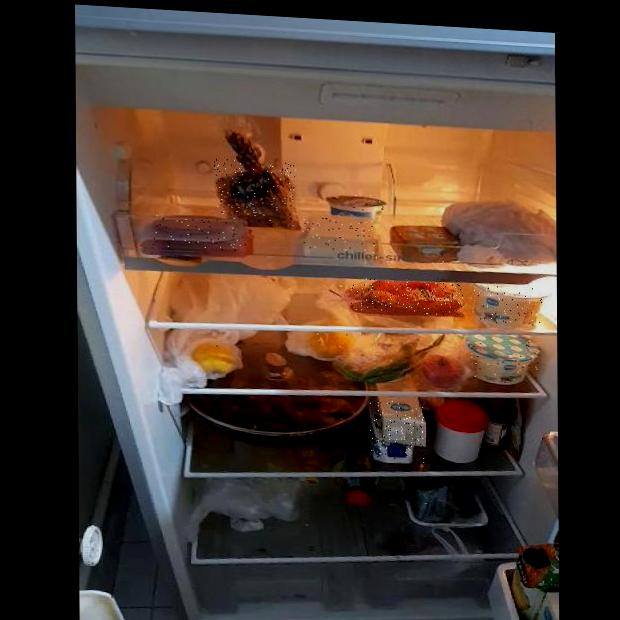bread: (215, 159, 297, 229)
butter: (390, 223, 459, 264)
carrot: (351, 278, 463, 316)
cheese: (303, 217, 375, 253)
lemon: (189, 340, 240, 376), (312, 328, 353, 360)
milk: (370, 399, 424, 464)
salami: (153, 215, 246, 251)
yoghurt: (469, 333, 541, 385), (474, 283, 547, 326), (328, 192, 385, 218)
